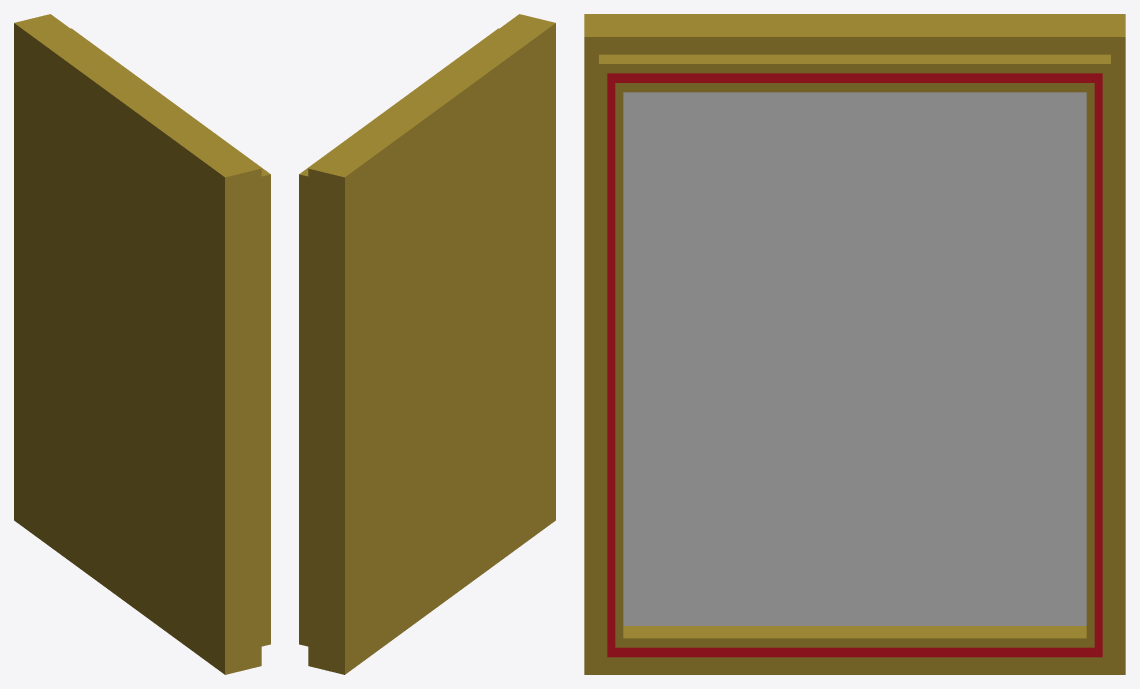
Rendered from frame1.fbx.
3 views of the same model, side by side, from view 1: azimuth 30°, elevation 25°; view 2: azimuth 150°, elevation 25°; view 3: azimuth 270°, elevation 25° (orthographic). The views are drawn at different scales.
Visible parts, largest first — view 1: frame; view 2: frame; view 3: frame.
Boxes of the visible parts, x1,y1,x2,y2 form: frame: [14, 14, 270, 674]; frame: [299, 14, 555, 674]; frame: [584, 14, 1125, 674].
Bounding box in the file's own units: 16.95 × 156 × 120.
